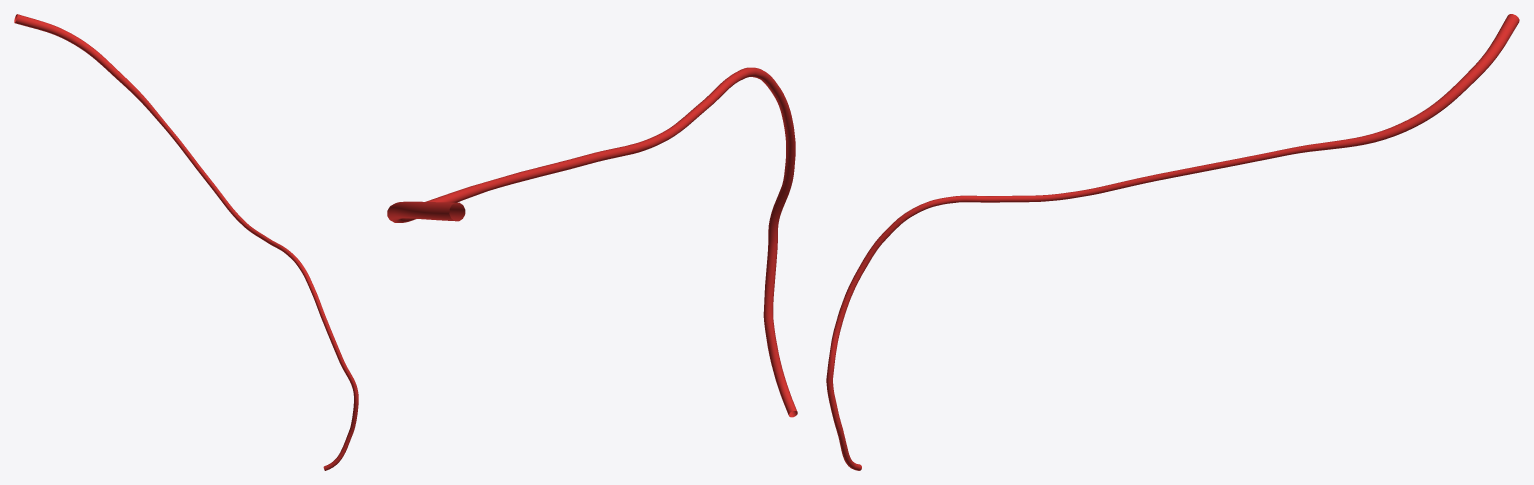
Rendered from circulatorio-posterior-septal-branches-of-sphenopalatine-artery-r.glb.
3 renders of one model, left to right at view 1: azimuth 30°, elevation 25°; view 2: azimuth 150°, elevation 25°; view 3: azimuth 270°, elevation 25°, orthographic. The views are drawn at different scales.
Visible parts, largest first — view 1: Posterior septal branches of sphenopalatine artery.r; view 2: Posterior septal branches of sphenopalatine artery.r; view 3: Posterior septal branches of sphenopalatine artery.r.
Part boxes in pixels (<box>): Posterior septal branches of sphenopalatine artery.r: <box>14,14,358,470</box>; Posterior septal branches of sphenopalatine artery.r: <box>387,67,797,417</box>; Posterior septal branches of sphenopalatine artery.r: <box>826,14,1519,470</box>.
Bounding box in the file's own units: 0.00919 × 0.0274 × 0.042.
